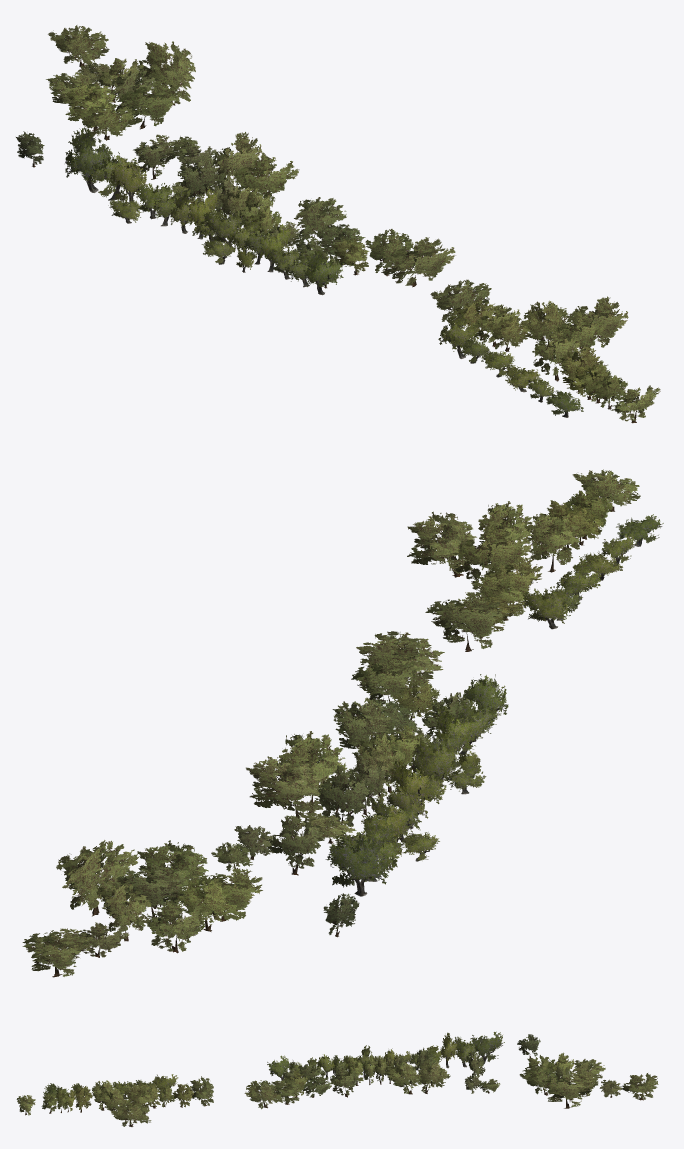
3 renders of one model, top to bottom at view 1: azimuth 30°, elevation 25°; view 2: azimuth 150°, elevation 25°; view 3: azimuth 270°, elevation 25°, orthographic. The views are drawn at different scales.
Parts seen in each view (by area): view 1: object 1, island_tree_01 Esplanade Drive bark; view 2: object 1, jacaranda_tree Esplanade Drive bark, island_tree_01 Esplanade Drive bark; view 3: object 1, jacaranda_tree Esplanade Drive bark, island_tree_01 Esplanade Drive bark.
Boxes of the visible parts, x1,y1,x2,y2 form: object 1: [16, 25, 660, 421]; island_tree_01 Esplanade Drive bark: [74, 162, 575, 417]; object 1: [22, 469, 663, 976]; jacaranda_tree Esplanade Drive bark: [52, 497, 614, 977]; island_tree_01 Esplanade Drive bark: [339, 530, 650, 896]; object 1: [16, 1031, 658, 1126]; jacaranda_tree Esplanade Drive bark: [25, 1054, 643, 1126]; island_tree_01 Esplanade Drive bark: [121, 1049, 494, 1098].
Size of the model in its own units: 90.29 by 17.23 by 286.
3 materials, 3 textured.
